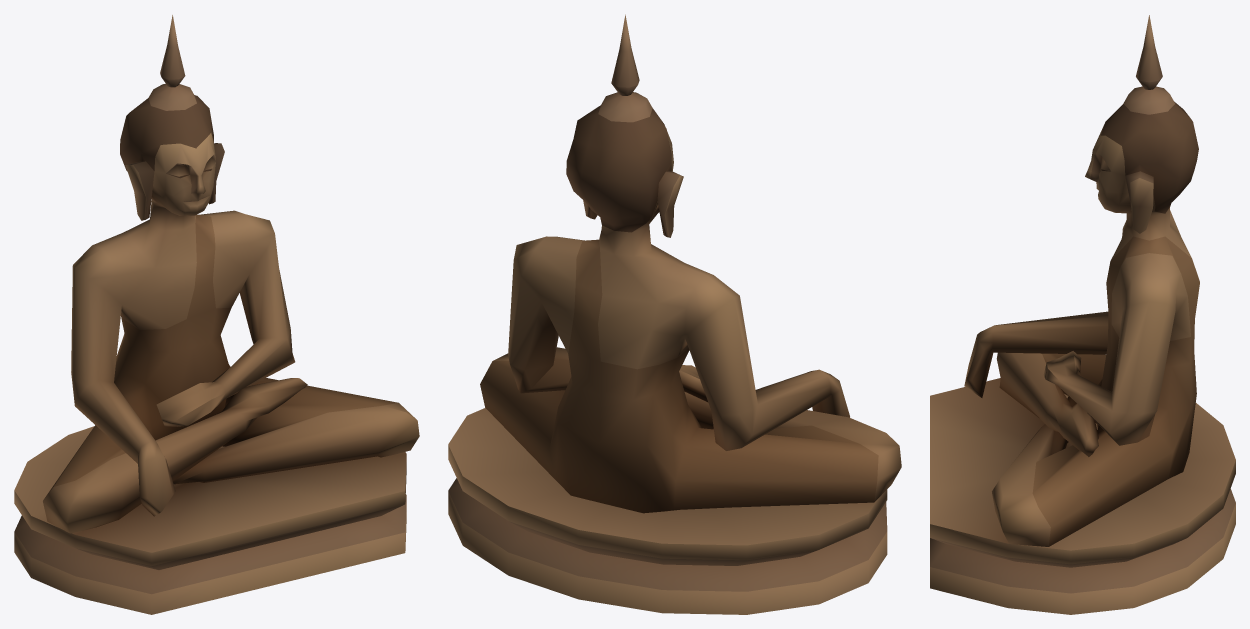
Rendered from Ruins_TempleRuins_alt01.glb.
The picture shows the model from 3 angles, left to right: view 1: azimuth 30°, elevation 25°; view 2: azimuth 150°, elevation 25°; view 3: azimuth 270°, elevation 25°; orthographic projection. The views are drawn at different scales.
Parts seen in each view (by area): view 1: base157; view 2: base157; view 3: base157.
Part boxes in pixels (<box>): base157: <box>14,15,419,614</box>; base157: <box>448,14,901,614</box>; base157: <box>930,15,1235,614</box>.
Size of the model in its own units: 6.04 by 7.92 by 4.31.
